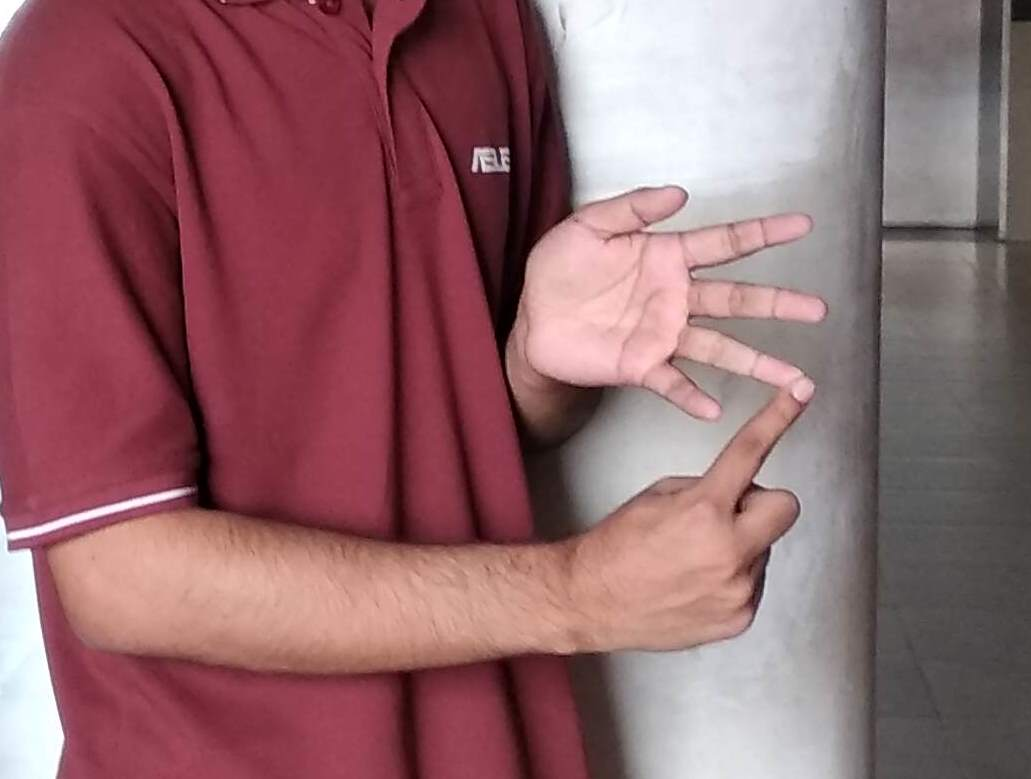e: (618, 201, 839, 547)
